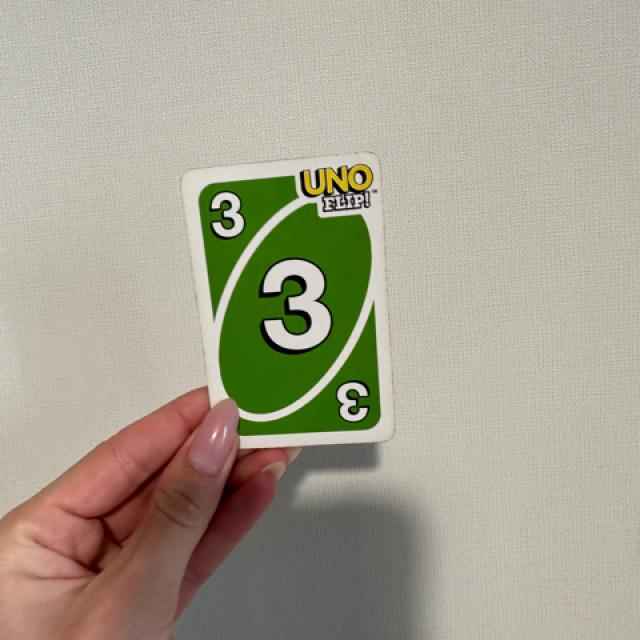lgreen-3: (196, 179, 264, 252)
